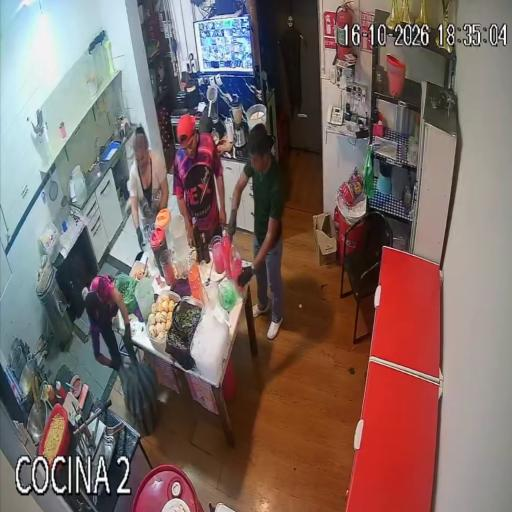Envase Ketchup: (57, 380, 66, 400)
Envase Llajua: (48, 388, 61, 405)
Jarra1: (150, 228, 166, 274)
Jarra2: (155, 208, 171, 247)
Jarra3: (169, 212, 188, 262)
Microondas: (170, 109, 187, 147), (193, 115, 199, 128)
Persona1: (173, 114, 226, 242)
Persona2: (83, 275, 135, 370)
Persona3: (129, 127, 168, 248)
Persona4: (229, 125, 285, 340)
Taper: (40, 225, 60, 261)
Taper2: (166, 296, 203, 370)
Taper3: (190, 304, 230, 384)
Taper4: (146, 290, 182, 352)
olla1: (19, 358, 38, 401)
